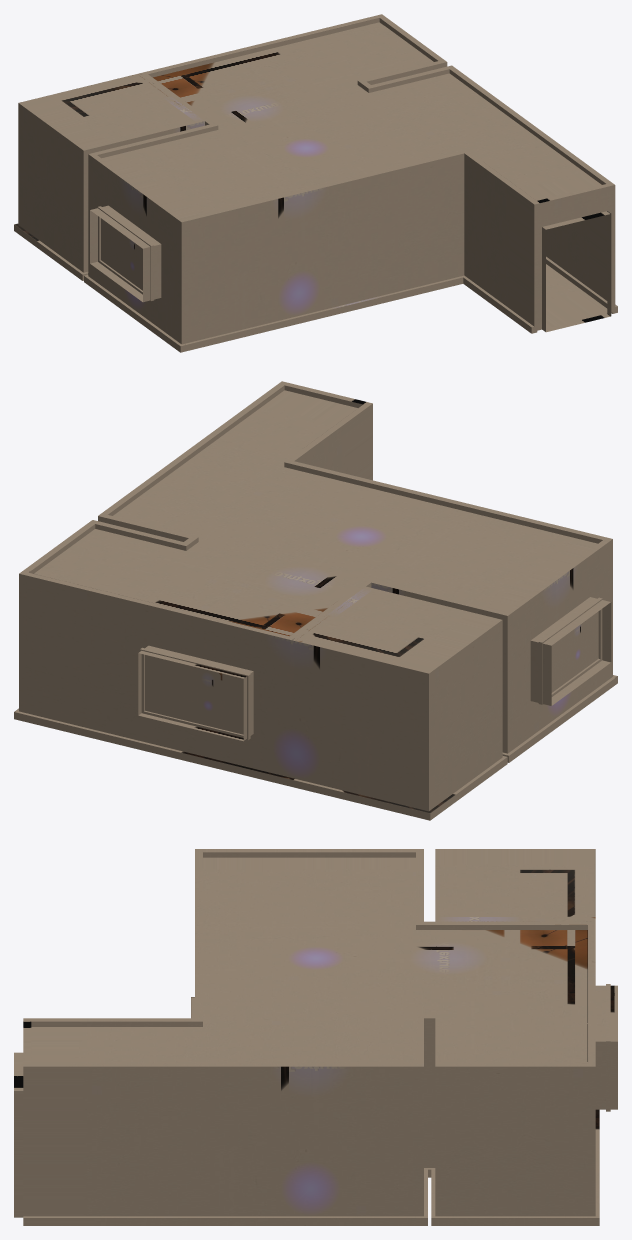
The model's file is roombake_1789042691934.glb.
3 views of the same model, one above another, from view 1: azimuth 30°, elevation 25°; view 2: azimuth 150°, elevation 25°; view 3: azimuth 270°, elevation 25° (orthographic). The views are drawn at different scales.
Visible parts, largest first — view 1: room_blank.glb; view 2: room_blank.glb; view 3: room_blank.glb.
Boxes of the visible parts, x1=… form: room_blank.glb: x1=14, y1=14, x2=617, y2=352; room_blank.glb: x1=14, y1=381, x2=617, y2=820; room_blank.glb: x1=14, y1=849, x2=617, y2=1225.
Bounding box in the file's own units: 7.96 × 2.54 × 8.82.
1 material, 1 textured.
